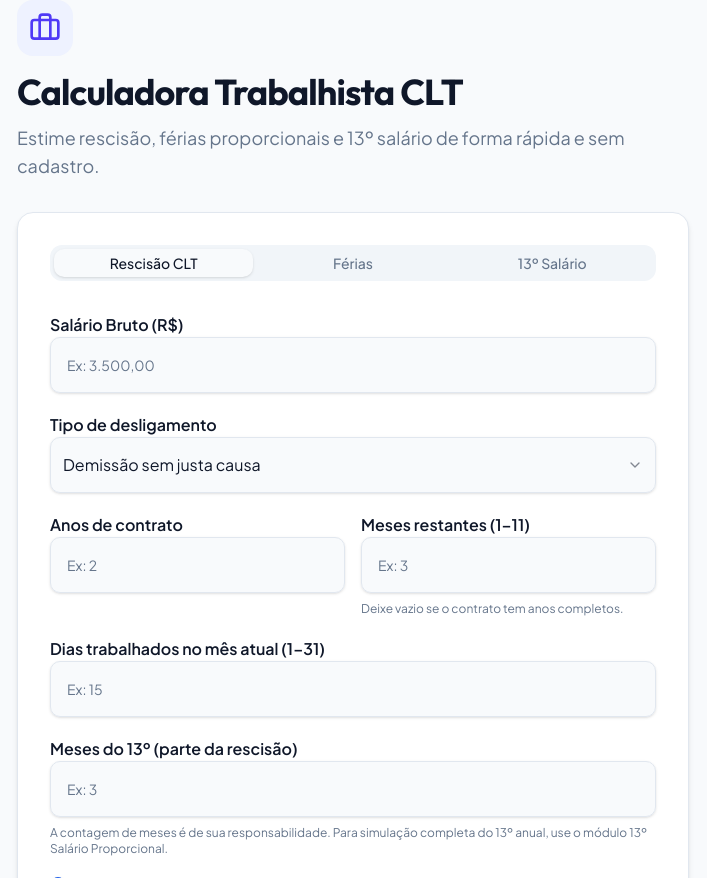
Test: 5.1 — showNotaFeriasZeradas: nota de férias zeradas reativa › nota NÃO aparece quando há meses aquisitivos (ex: anos=1, meses=3 → 15 meses)
In the number field labelled "Anos de contrato": (198, 565) [50,537,345,593], type "1"
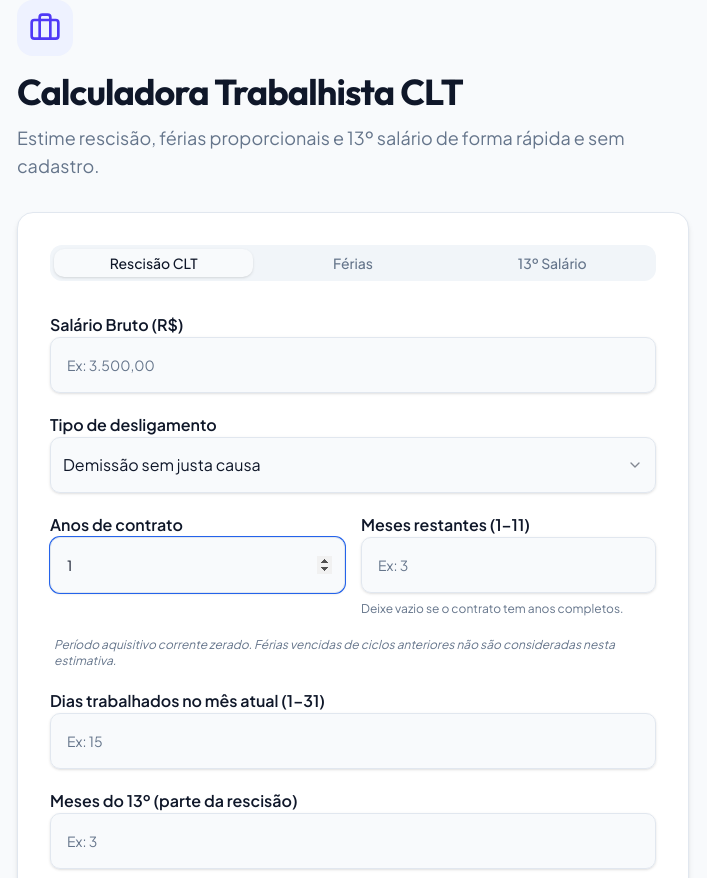
In the number field labelled "Meses restantes (1–11)": (508, 565) [361,537,656,593], type "3"
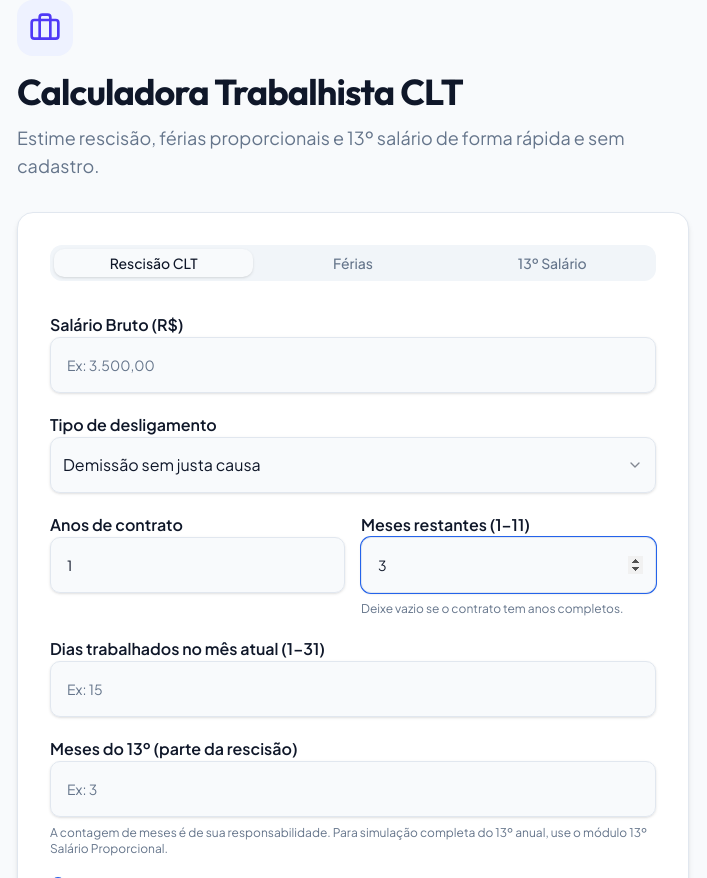
Expected: the text "Período aquisitivo corrente zerado" is gone
